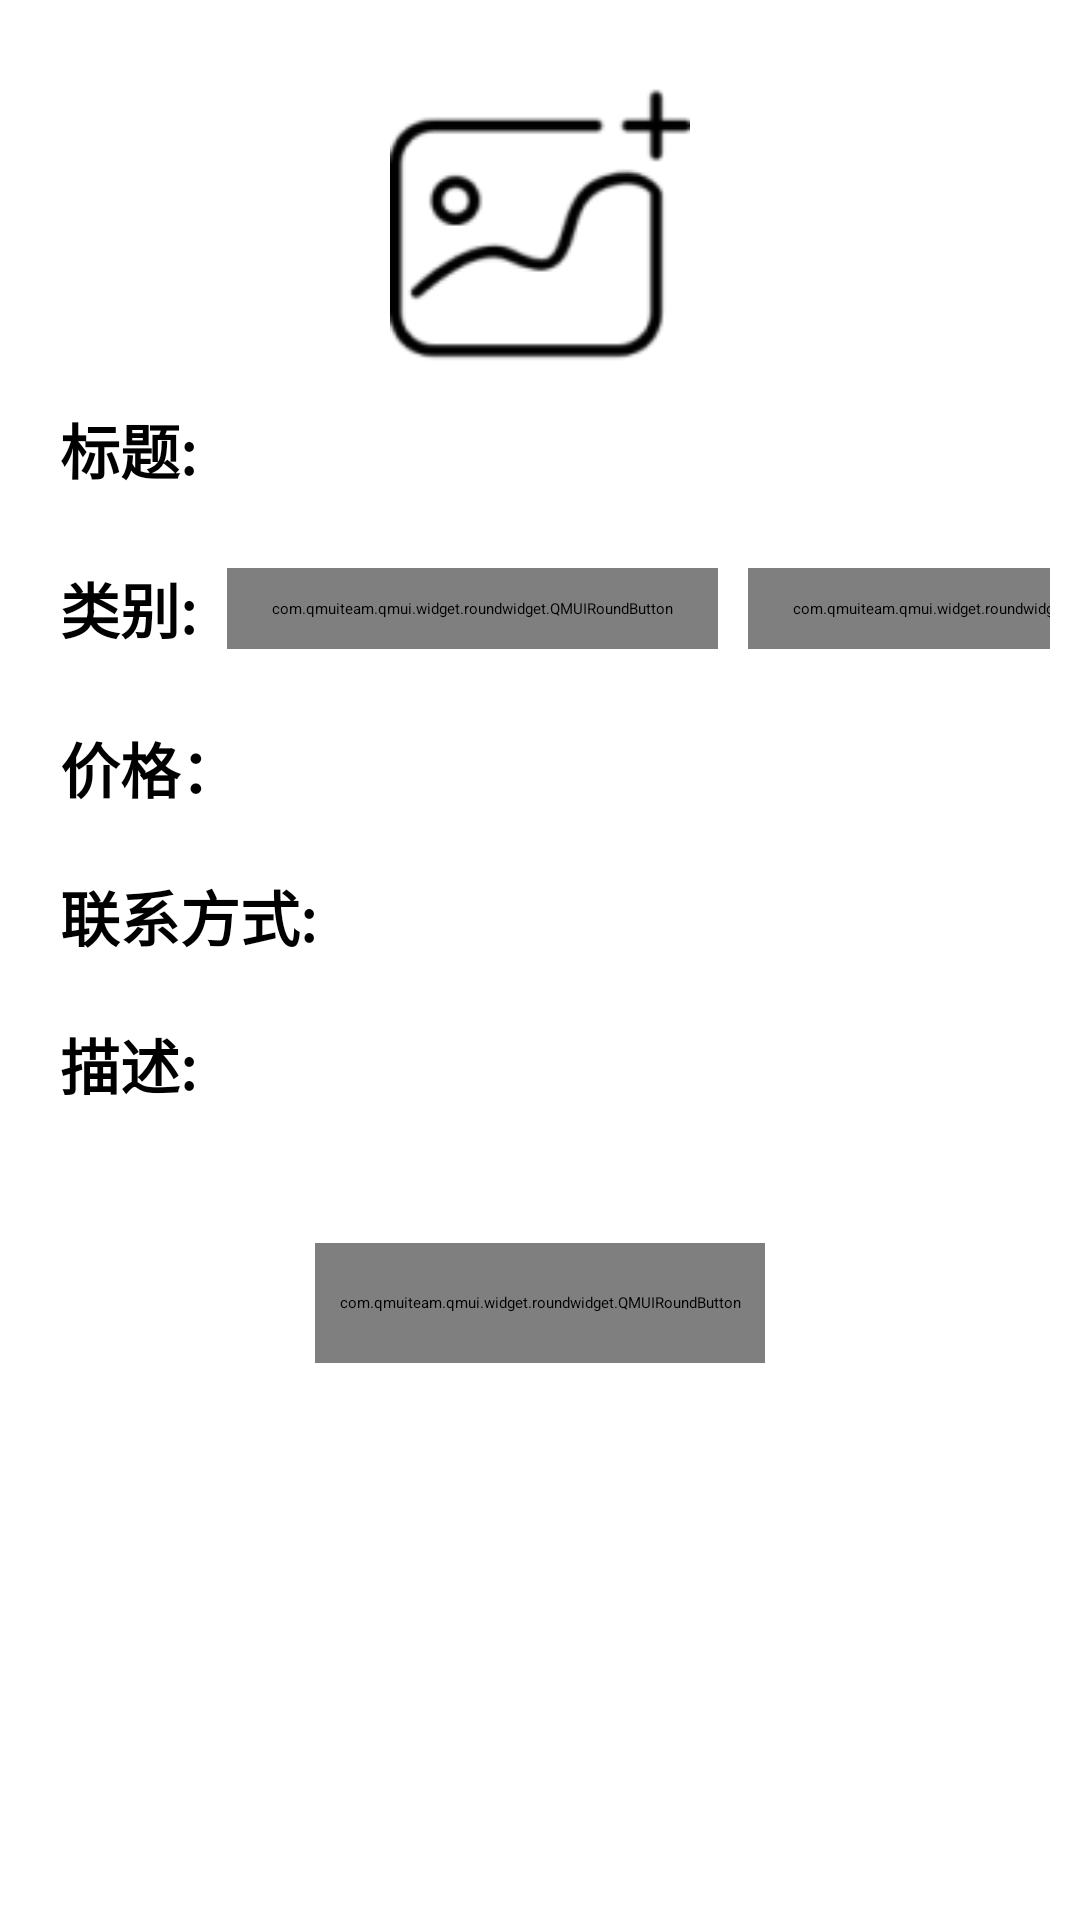

Locate icon controls on the screen. Image size 1080px×1920px, boxes as {"x1": x1, "y1": y1, "x2": x2, "y2": y2}.
addphoto: {"x1": 390, "y1": 89, "x2": 690, "y2": 359}
